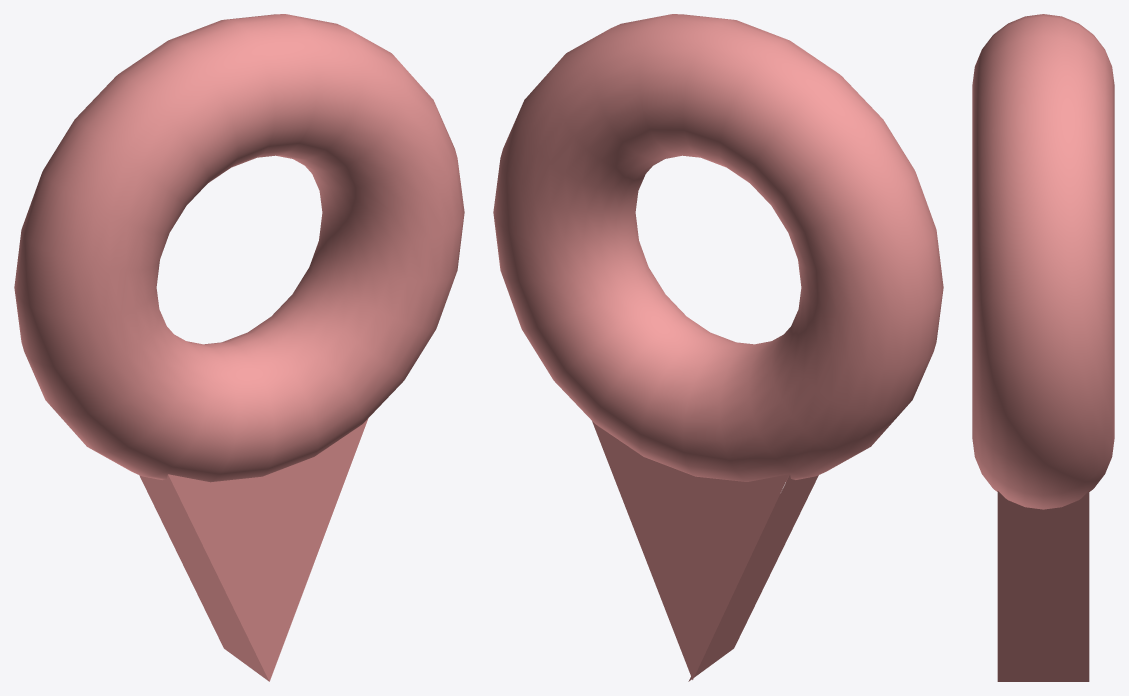
File: Pin_02.gltf
3 views of the same model, side by side, from view 1: azimuth 30°, elevation 25°; view 2: azimuth 150°, elevation 25°; view 3: azimuth 270°, elevation 25° (orthographic).
Parts seen in each view (by area): view 1: Torus1, Box; view 2: Torus1, Box; view 3: Torus1, Box.
Boxes of the visible parts, x1=… form: Torus1: x1=14, y1=14, x2=464, y2=482; Box: x1=139, y1=418, x2=368, y2=681; Torus1: x1=493, y1=14, x2=943, y2=481; Box: x1=592, y1=421, x2=818, y2=681; Torus1: x1=972, y1=14, x2=1114, y2=509; Box: x1=997, y1=491, x2=1089, y2=681.
Size of the model in its own units: 0.98 by 1.4 by 0.28.
